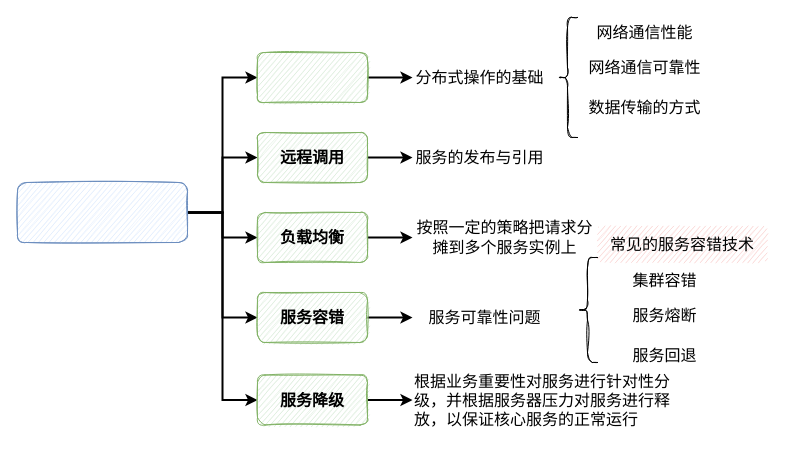
Some shapes in this 785 by 457 pixel diagram are drawn without their labels. The shapes that lost their labels are listed below. From the top down, each one's centre as x and y in pixels, then its label:
At point (312, 77): "网络通信".
At point (102, 212): "远程过程调用组件".
